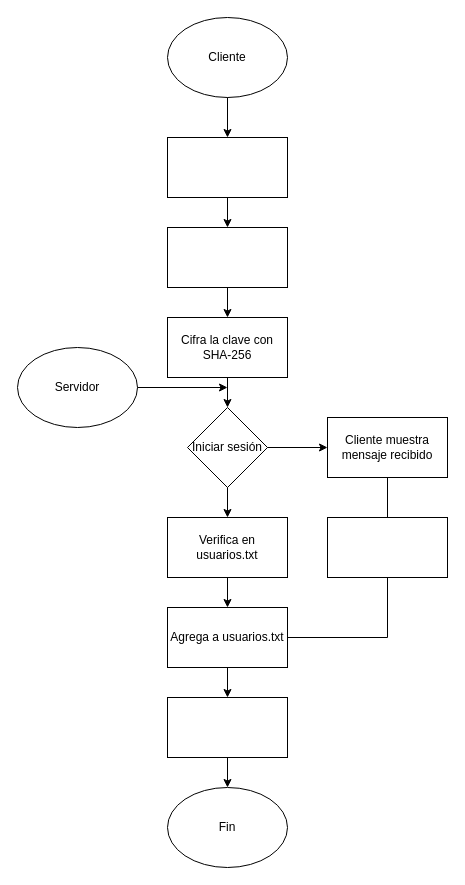
Image size: 465x885. Some labels were removed from this diagram. The centre of each missing label's shape, as x and y in pixels:
"Ingresa usuario y clave" belongs at point (227, 257).
"Registra en logs.txt" belongs at point (227, 727).
"Responde resultado" belongs at point (387, 547).
"Solicita acción: Login o registro" belongs at point (227, 167).
